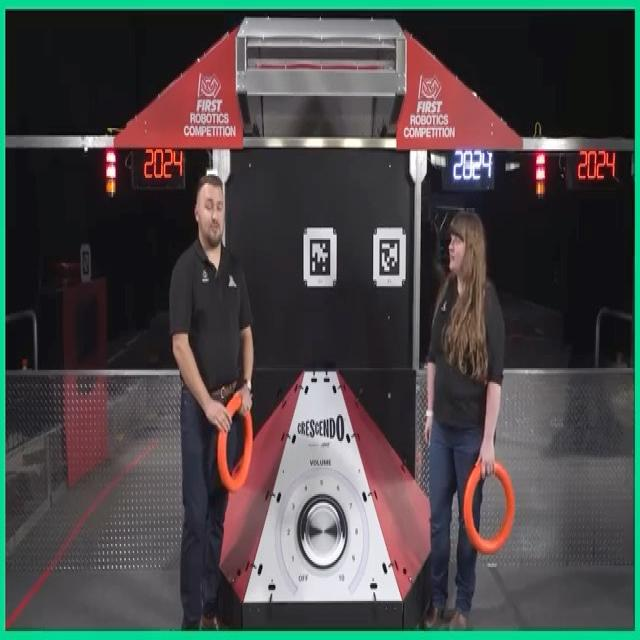note: (463, 460, 516, 558), (215, 395, 255, 490)
